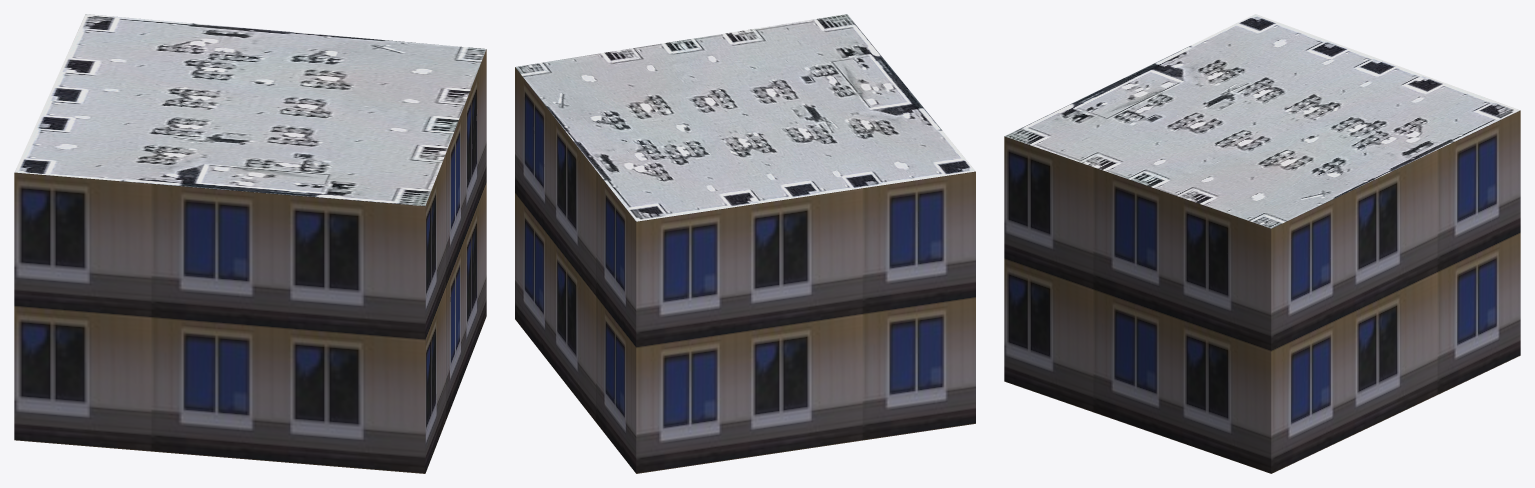
Rendered from ResTex__1607.fbx.
3 views of the same model, side by side, from view 1: azimuth 30°, elevation 25°; view 2: azimuth 150°, elevation 25°; view 3: azimuth 270°, elevation 25° (orthographic). The views are drawn at different scales.
Visible parts, largest first — view 1: CityEngineMaterial_5_m, CityEngineMaterial_4_m; view 2: CityEngineMaterial_5_m, CityEngineMaterial_4_m; view 3: CityEngineMaterial_5_m, CityEngineMaterial_4_m.
Boxes of the visible parts, x1,y1,x2,y2 form: CityEngineMaterial_5_m: [14, 49, 486, 473]; CityEngineMaterial_4_m: [14, 14, 486, 205]; CityEngineMaterial_5_m: [515, 67, 975, 473]; CityEngineMaterial_4_m: [515, 14, 975, 221]; CityEngineMaterial_5_m: [1004, 110, 1520, 473]; CityEngineMaterial_4_m: [1005, 14, 1519, 228].
Size of the model in its own units: 11.27 by 6 by 11.45.
2 materials, 2 textured.
